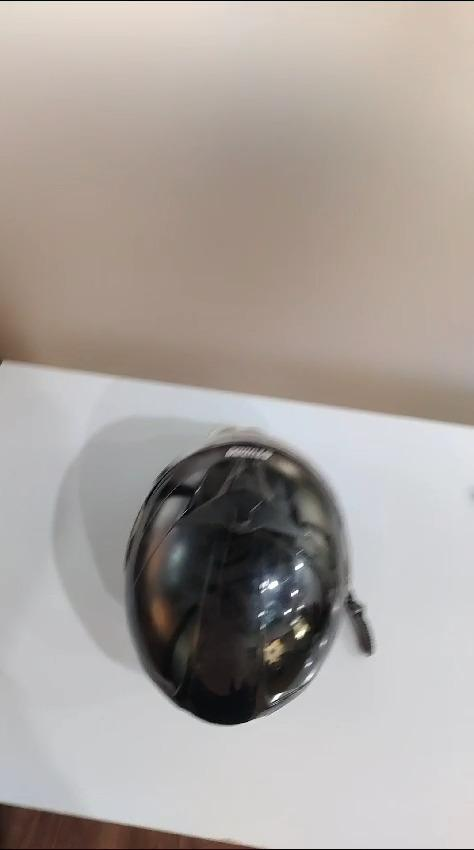Helmet: (126, 436, 371, 725)
